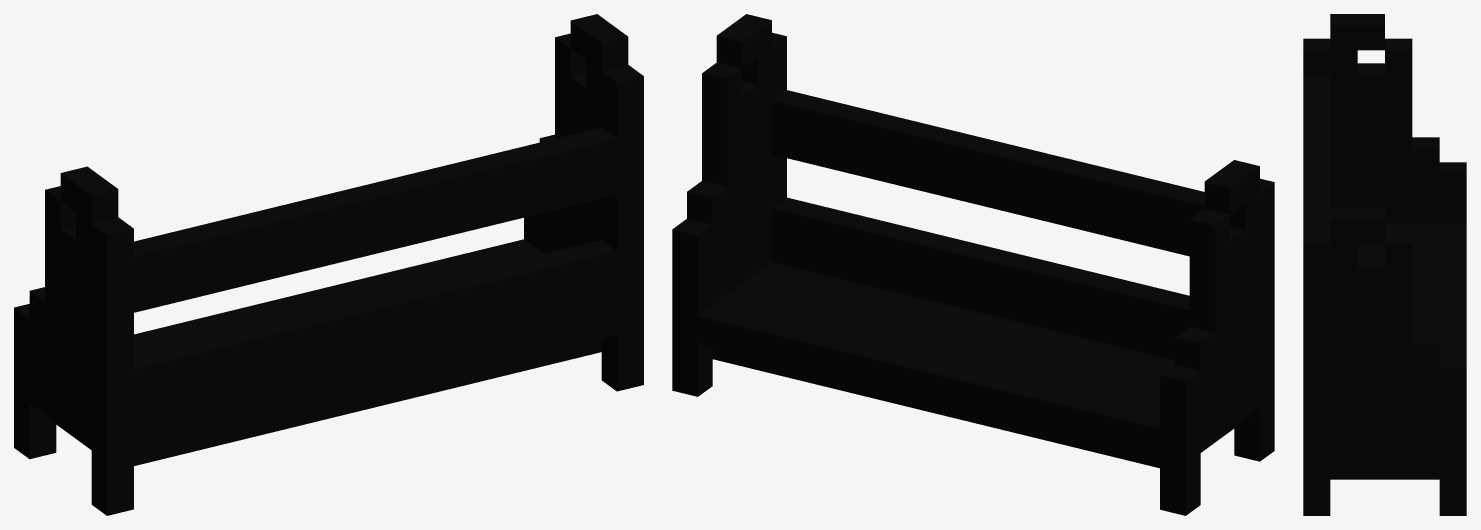
Rendered from church-27-ch_bench2.glb.
3 views of the same model, side by side, from view 1: azimuth 30°, elevation 25°; view 2: azimuth 150°, elevation 25°; view 3: azimuth 270°, elevation 25° (orthographic). The views are drawn at different scales.
Visible parts, largest first — view 1: ch_bench2; view 2: ch_bench2; view 3: ch_bench2.
Part boxes in pixels (box(x1,y1,x2,y2)): ch_bench2: box(14, 14, 643, 515); ch_bench2: box(672, 14, 1274, 515); ch_bench2: box(1303, 14, 1466, 515).
Bounding box in the file's own units: 2 × 1.2 × 0.6.
1 material, 1 textured.
